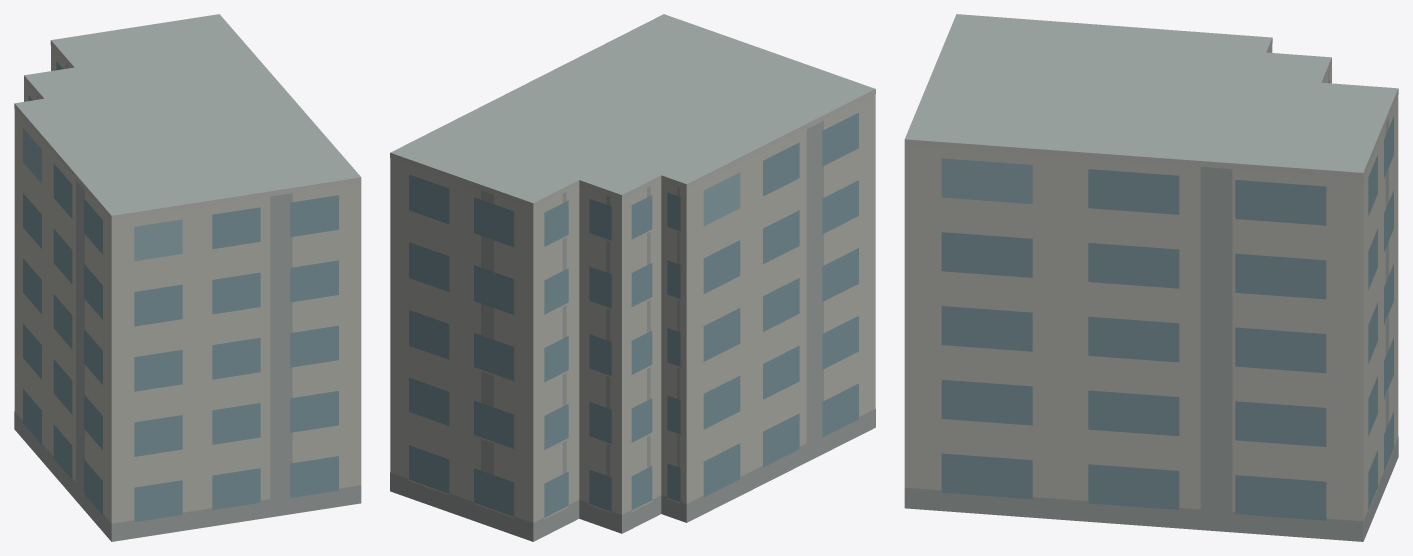
File: survey-upis-32789299.glb
3 views of the same model, side by side, from view 1: azimuth 30°, elevation 25°; view 2: azimuth 150°, elevation 25°; view 3: azimuth 270°, elevation 25° (orthographic). The views are drawn at different scales.
Parts seen in each view (by area): view 1: survey-upis-32789299.tmp; view 2: survey-upis-32789299.tmp; view 3: survey-upis-32789299.tmp.
Boxes of the visible parts, box(x1,y1,x2,y2) form: survey-upis-32789299.tmp: box(14, 14, 361, 541); survey-upis-32789299.tmp: box(390, 14, 875, 541); survey-upis-32789299.tmp: box(904, 14, 1398, 541).
Size of the model in its own units: 14.09 by 15.25 by 18.5.
